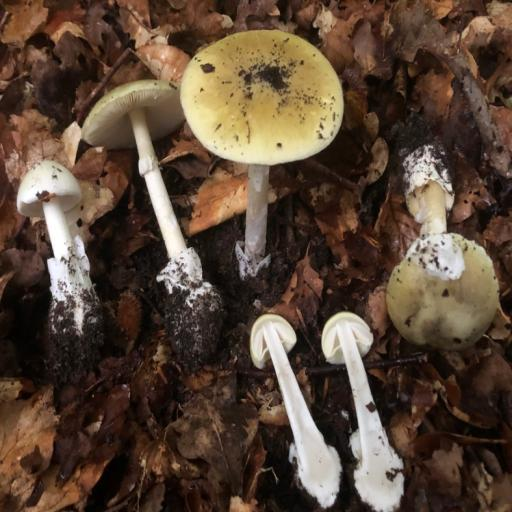mushroom: (8, 21, 499, 512)
